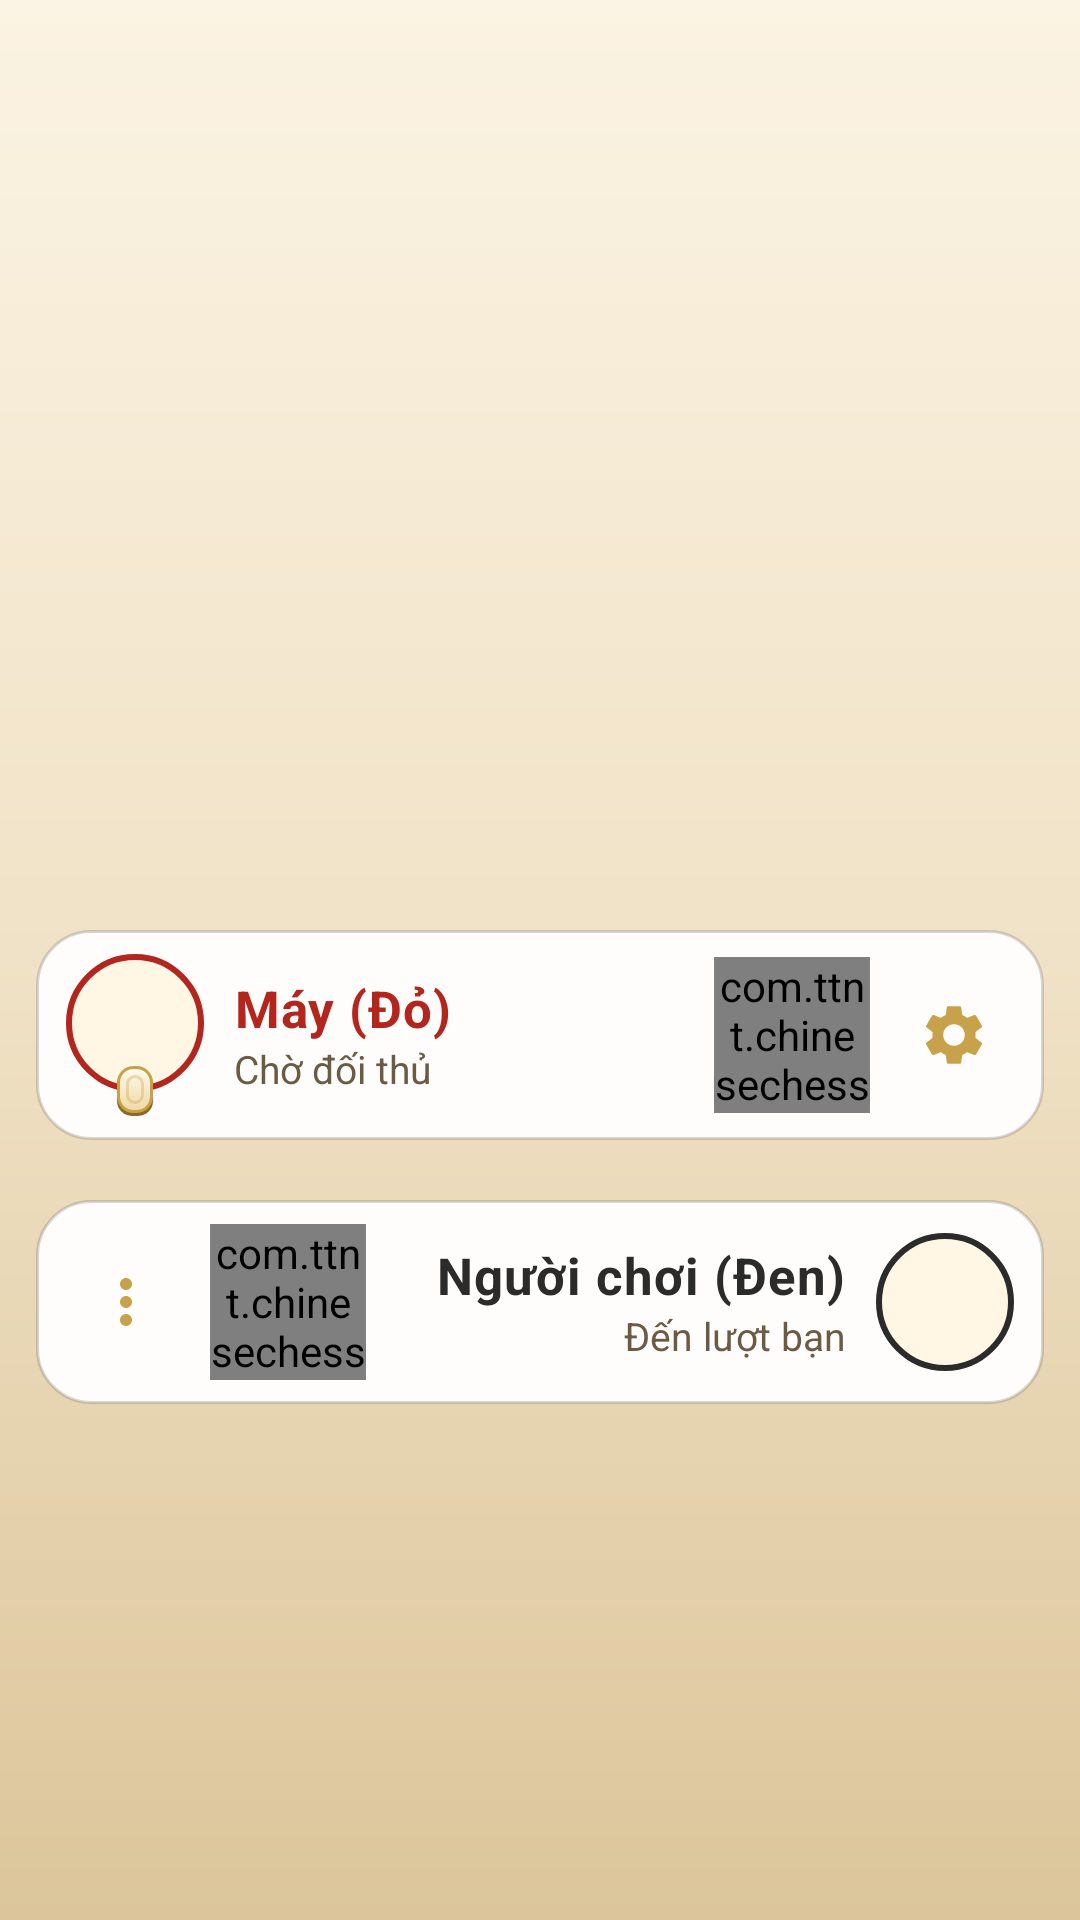

Icon click points for this 1080×1920 phone screenshot, format point (x, y):
Cài đặt: point (954, 1035)
Menu: point (126, 1302)
